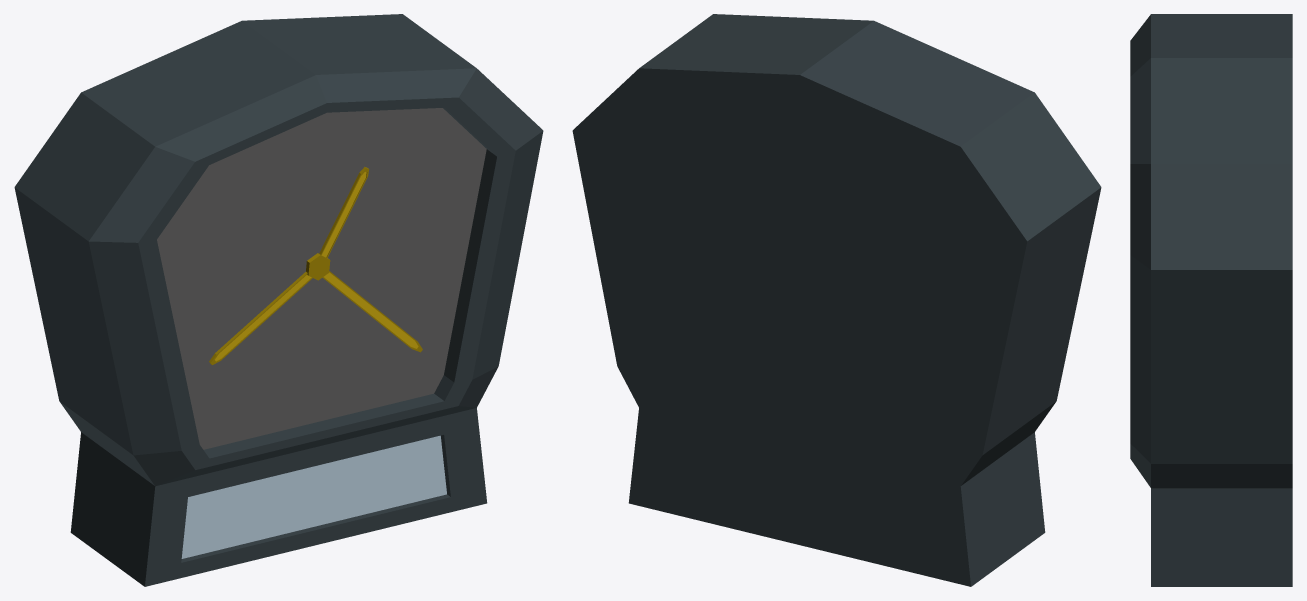
Rendered from FurnAcc_ClockSmall.fbx.
3 renders of one model, left to right at view 1: azimuth 30°, elevation 25°; view 2: azimuth 150°, elevation 25°; view 3: azimuth 270°, elevation 25°, orthographic. The views are drawn at different scales.
Visible parts, largest first — view 1: FurnAcc_ClockSmall; view 2: FurnAcc_ClockSmall; view 3: FurnAcc_ClockSmall.
Boxes of the visible parts, x1,y1,x2,y2 form: FurnAcc_ClockSmall: [14, 14, 543, 586]; FurnAcc_ClockSmall: [572, 14, 1101, 586]; FurnAcc_ClockSmall: [1130, 14, 1292, 586].
Size of the model in its own units: 11.71 by 11.57 by 3.8.
